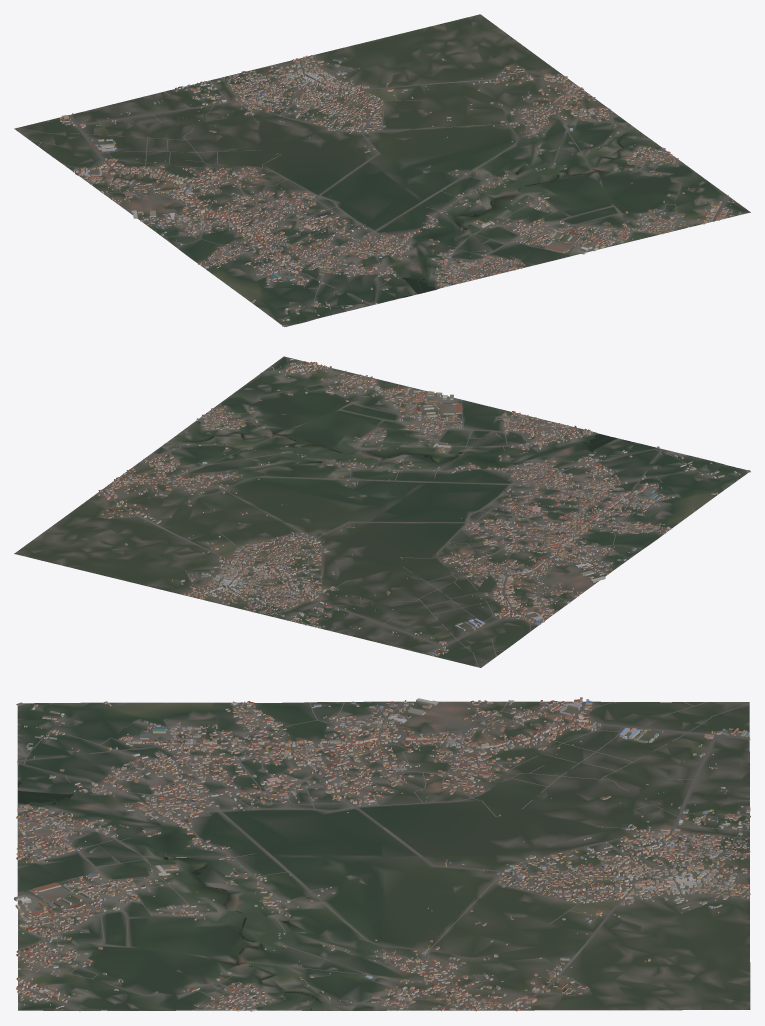
The picture shows the model from 3 angles, top to bottom: view 1: azimuth 30°, elevation 25°; view 2: azimuth 150°, elevation 25°; view 3: azimuth 270°, elevation 25°; orthographic projection. The views are drawn at different scales.
Parts seen in each view (by area): view 1: ground, buildings, roads, water; view 2: ground, buildings, roads, water; view 3: ground, buildings, roads, water.
Part boxes in pixels (box(x1,y1,x2,y2)): ground: box(14, 14, 750, 326); buildings: box(60, 55, 740, 321); roads: box(16, 55, 747, 326); water: box(299, 133, 640, 323); ground: box(14, 356, 750, 667); buildings: box(98, 358, 740, 656); roads: box(100, 357, 750, 667); water: box(177, 432, 734, 467); ground: box(17, 701, 750, 1010); buildings: box(14, 697, 750, 1011); roads: box(16, 701, 749, 1011); water: box(17, 713, 322, 1009).
Bounding box in the file's own units: 2819 × 27.56 × 2822.
